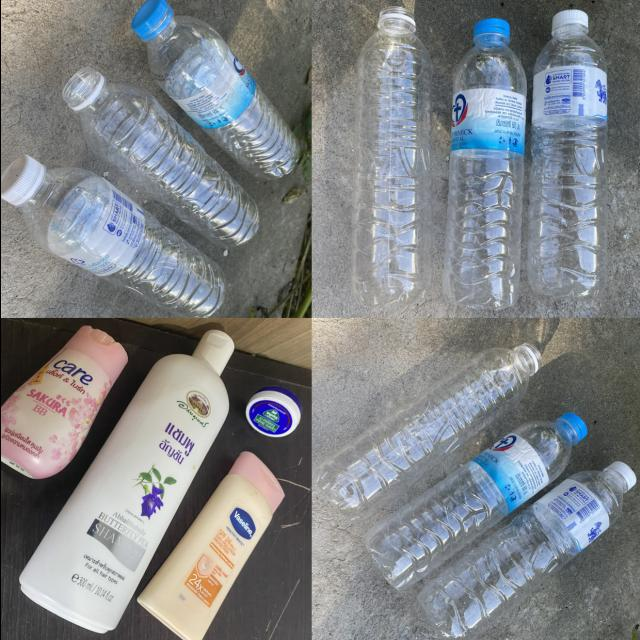plastik: (19, 330, 233, 633), (315, 344, 540, 521), (363, 413, 586, 589), (417, 461, 635, 640), (0, 155, 224, 317), (62, 68, 258, 248), (131, 0, 299, 179), (137, 452, 284, 640), (351, 7, 431, 308), (442, 19, 525, 309), (526, 10, 606, 301), (0, 326, 126, 479), (245, 386, 300, 437)
